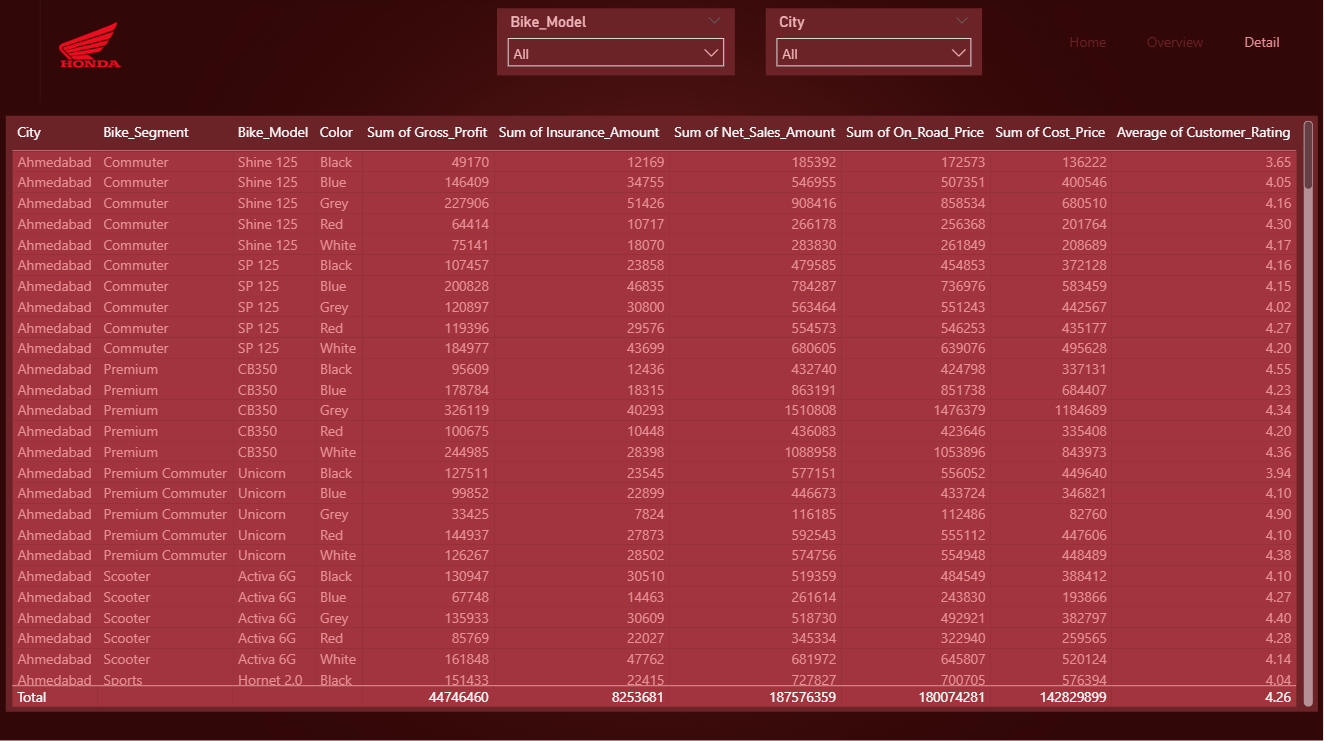

What the dashboard file says about the page in this screenshot:
{"tool":"powerbi","page":{"name":"Detail","canvas":[1280,720],"ordinal":2},"visuals":[{"type":"pageNavigator","box":[1015.8,26.5,244.9,32.6],"z":0},{"type":"image","box":[18.1,0,147.2,101.3],"z":1000},{"type":"tableEx","fields":{"Values":["Honda All Dataset.City","Honda All Dataset.Bike_Segment","Honda All Dataset.Bike_Model","Honda All Dataset.Color","Sum(Honda All Dataset.Gross_Profit)","Sum(Honda All Dataset.Insurance_Amount)","Sum(Honda All Dataset.Net_Sales_Amount)","Sum(Honda All Dataset.On_Road_Price)","Sum(Honda All Dataset.Cost_Price)","Avg(Honda All Dataset.Customer_Rating)"]},"box":[18.1,114.6,1257.1,575.5],"z":2000},{"type":"slicer","fields":{"Values":["Honda All Dataset.Bike_Model"]},"box":[482.6,10.9,229.2,65.1],"z":3000},{"type":"slicer","fields":{"Values":["Honda All Dataset.City"]},"box":[742,10.9,208.7,65.1],"z":4000}]}

Visuals, with their boxes in screenshot pixels (x1, y1, x2, y2), scaled from the page's 1280x720 canvas onto the 1324x741 screenshot:
pageNavigator: {"x1": 1051, "y1": 27, "x2": 1304, "y2": 61}
image: {"x1": 19, "y1": 0, "x2": 171, "y2": 104}
tableEx - Honda All Dataset.City x Honda All Dataset.Bike_Segment: {"x1": 19, "y1": 118, "x2": 1319, "y2": 710}
slicer - Honda All Dataset.Bike_Model: {"x1": 499, "y1": 11, "x2": 736, "y2": 78}
slicer - Honda All Dataset.City: {"x1": 768, "y1": 11, "x2": 983, "y2": 78}
